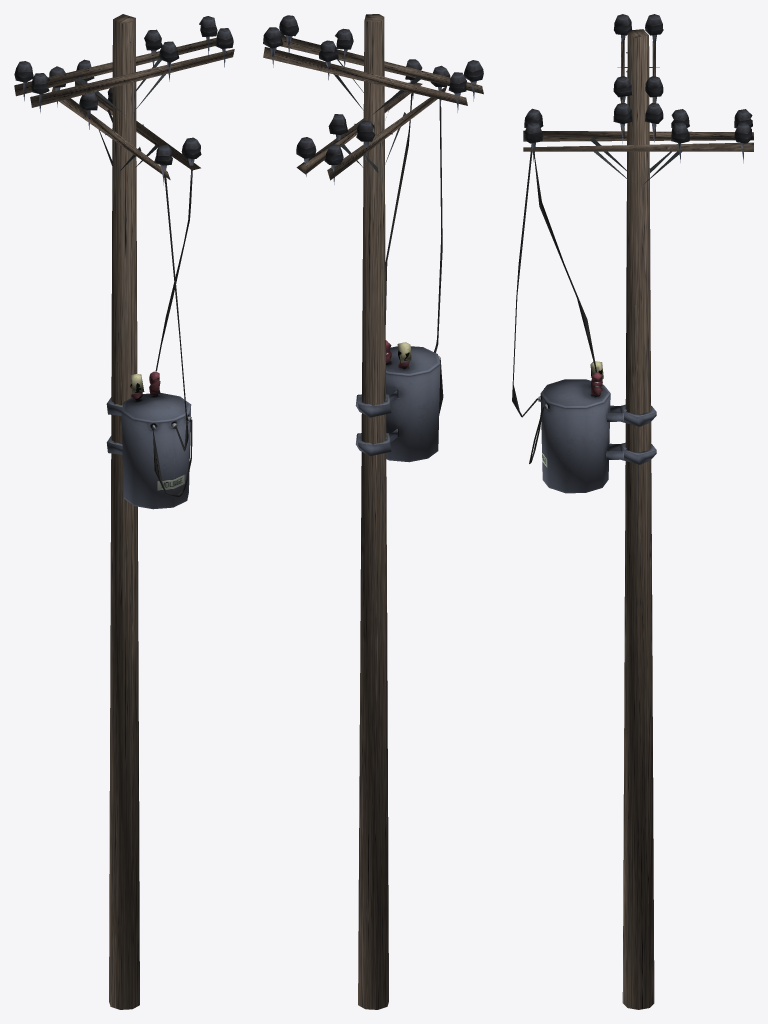
The model's file is pole_wood_f_lod_2.glb.
3 renders of one model, left to right at view 1: azimuth 30°, elevation 25°; view 2: azimuth 150°, elevation 25°; view 3: azimuth 270°, elevation 25°, orthographic.
Parts seen in each view (by area): view 1: pole_wood_f_lod_2; view 2: pole_wood_f_lod_2; view 3: pole_wood_f_lod_2.
Boxes of the visible parts, x1,y1,x2,y2 form: pole_wood_f_lod_2: (14,14,234,1009); pole_wood_f_lod_2: (263,14,483,1009); pole_wood_f_lod_2: (512,14,753,1009).
Size of the model in its own units: 2.2 by 10.2 by 2.31.
Materials: 2 (2 with a texture image).
